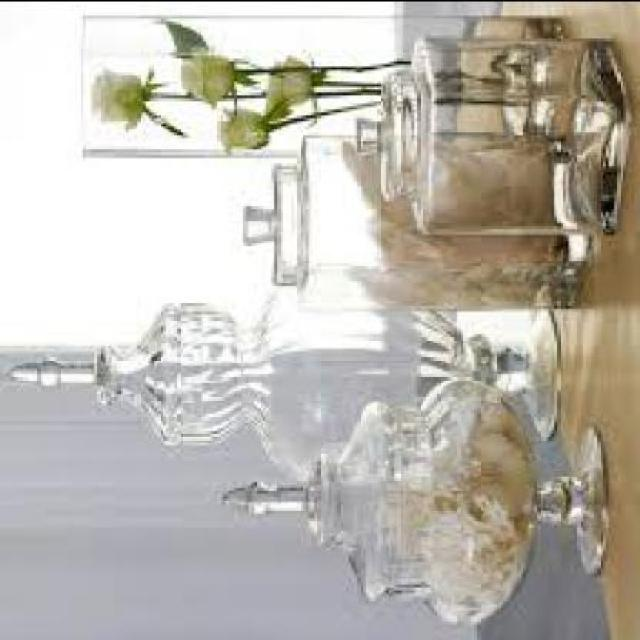BIODEGRADABLE: (82, 68, 175, 142), (263, 57, 326, 125), (212, 108, 274, 157), (177, 59, 232, 112), (157, 17, 203, 63)
GLASS: (3, 290, 557, 481), (218, 379, 602, 626), (243, 137, 594, 312), (354, 42, 628, 236)
